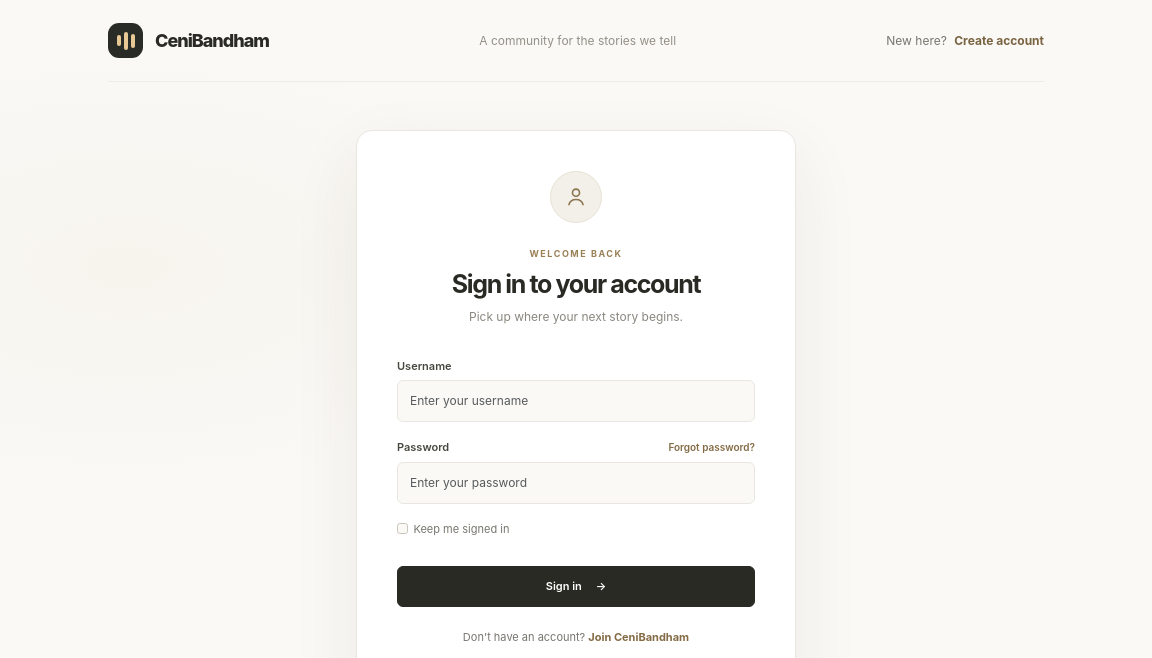
Test: App routing › navigates from login to registration
Click the link "New here? Create account" at (965, 40), box [886,32,1044,50]
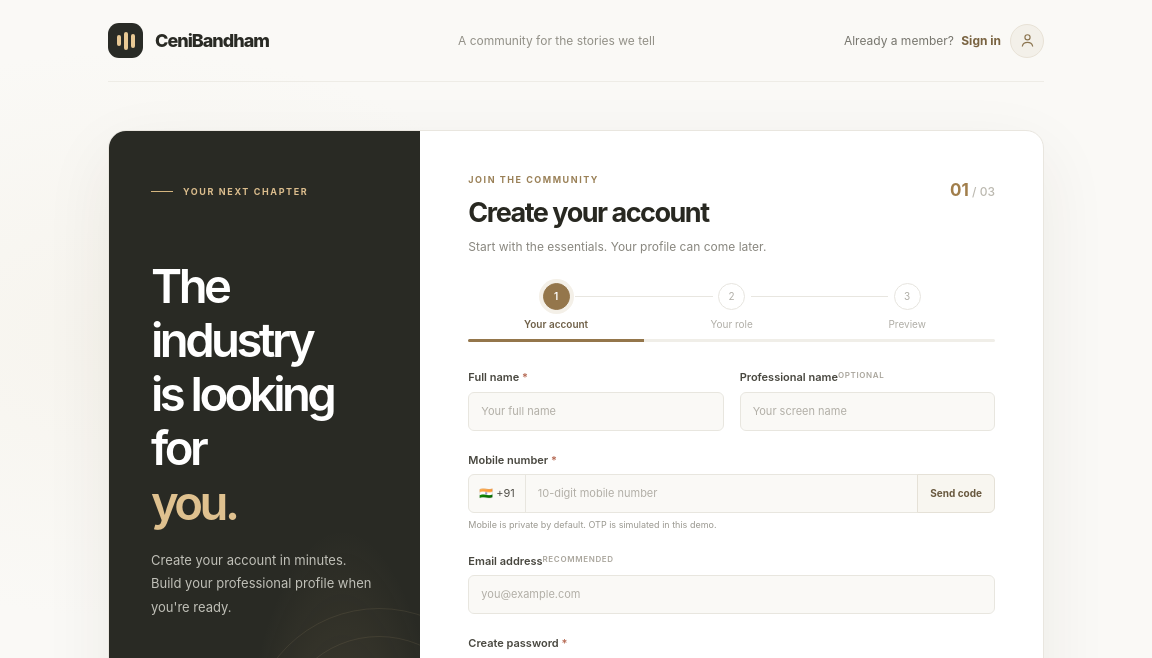
Check: the heading "Create your account" is shown, box [468,196,709,228]
